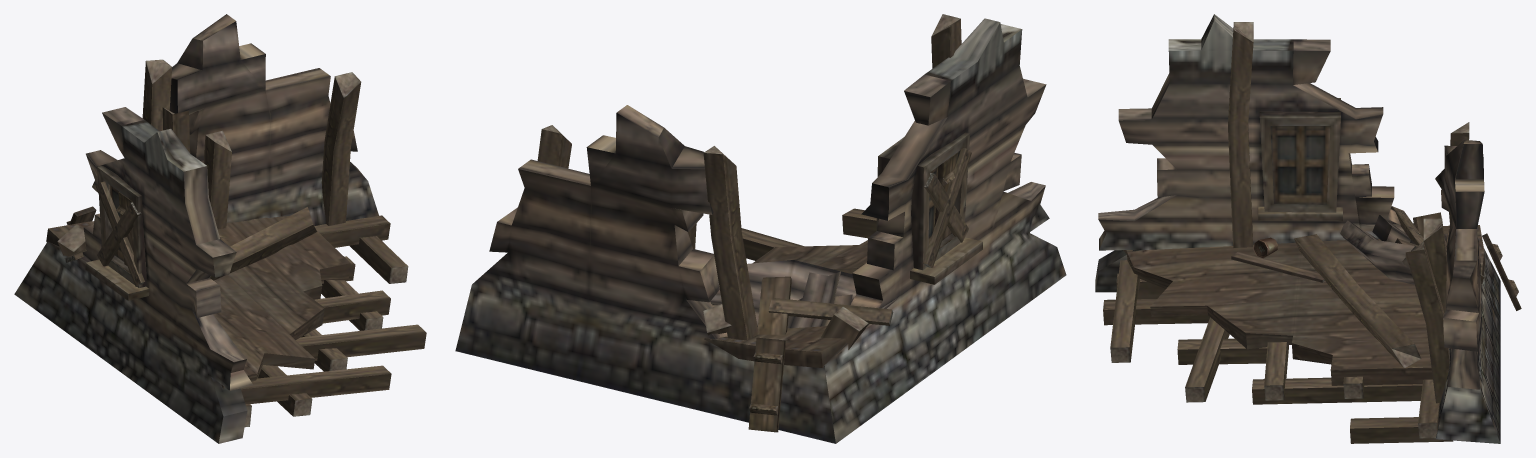
Rendered from DN_lv2_house03.FBX.
The picture shows the model from 3 angles, left to right: view 1: azimuth 30°, elevation 25°; view 2: azimuth 150°, elevation 25°; view 3: azimuth 270°, elevation 25°; orthographic projection. The views are drawn at different scales.
Parts seen in each view (by area): view 1: DN_lv2_house03; view 2: DN_lv2_house03; view 3: DN_lv2_house03.
Boxes of the visible parts, x1=… form: DN_lv2_house03: x1=14, y1=14, x2=426, y2=443; DN_lv2_house03: x1=455, y1=14, x2=1066, y2=443; DN_lv2_house03: x1=1095, y1=14, x2=1521, y2=443.
Size of the model in its own units: 472 by 369 by 509.
